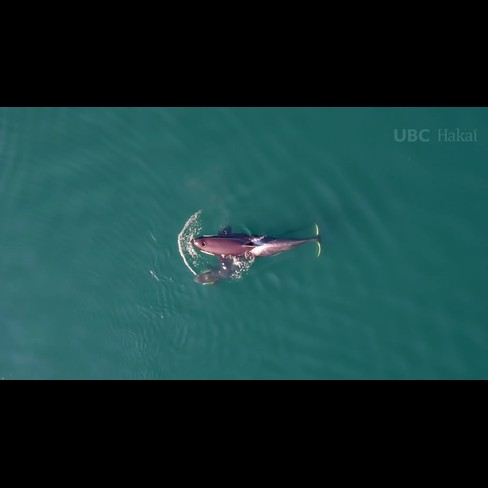orca: (186, 214, 330, 267), (190, 259, 276, 287)
